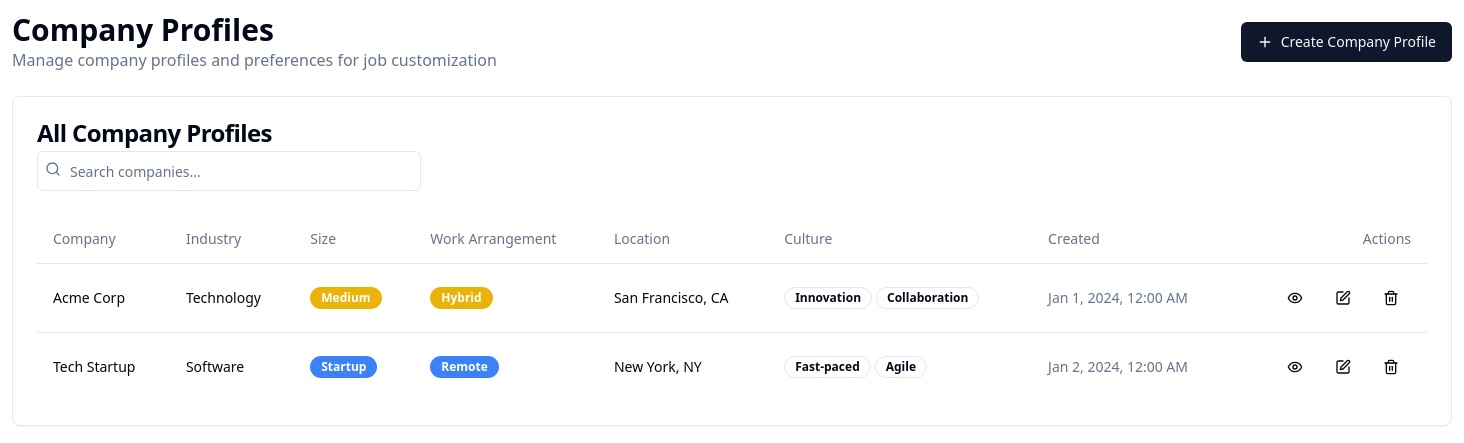
it: CompanyProfileList › filters company profiles by search term
Type "Acme" into the field with placeholder "Search companies...".
click(229, 171); type("Acme")  # box [37, 151, 421, 191]
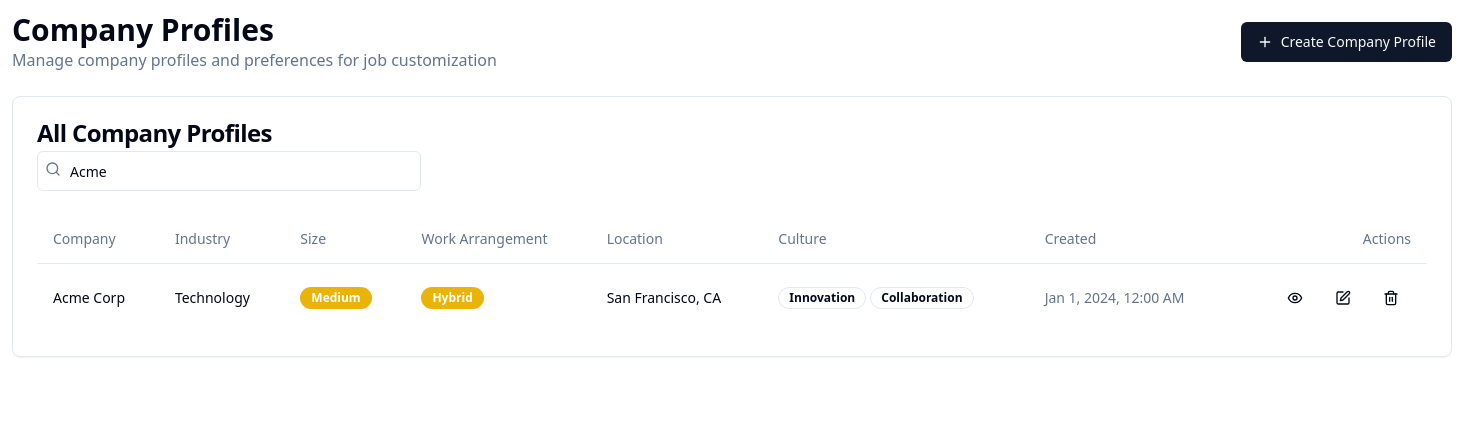
Check: the text "Acme Corp" is shown, box [37, 263, 159, 332]
Check: the text "Tech Startup" is gone
